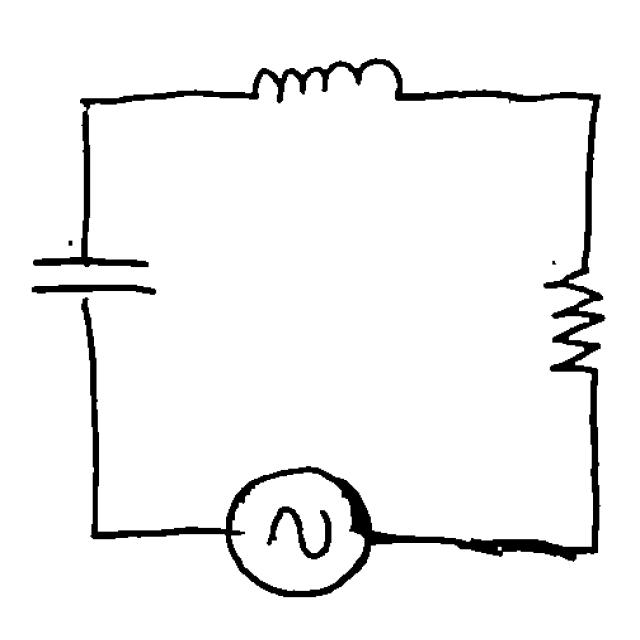ac: (215, 449, 390, 610)
capacitor: (16, 234, 170, 322)
inductor: (231, 50, 426, 124)
resistor: (534, 246, 620, 397)
